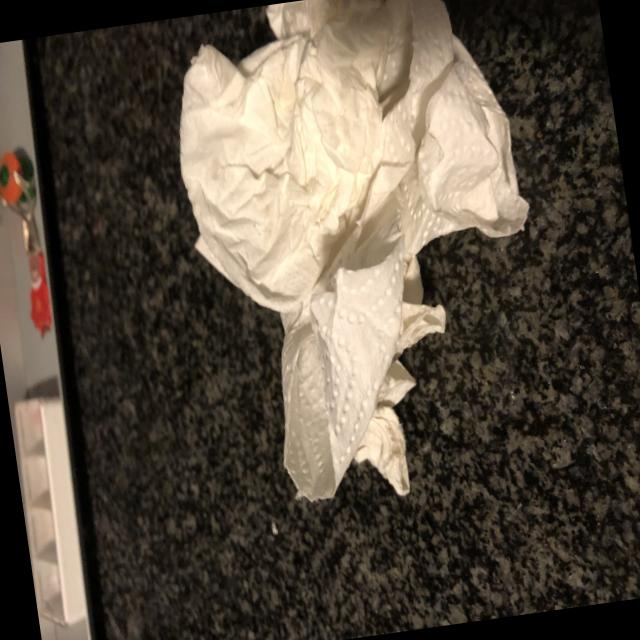organic waste: (155, 0, 572, 527)
